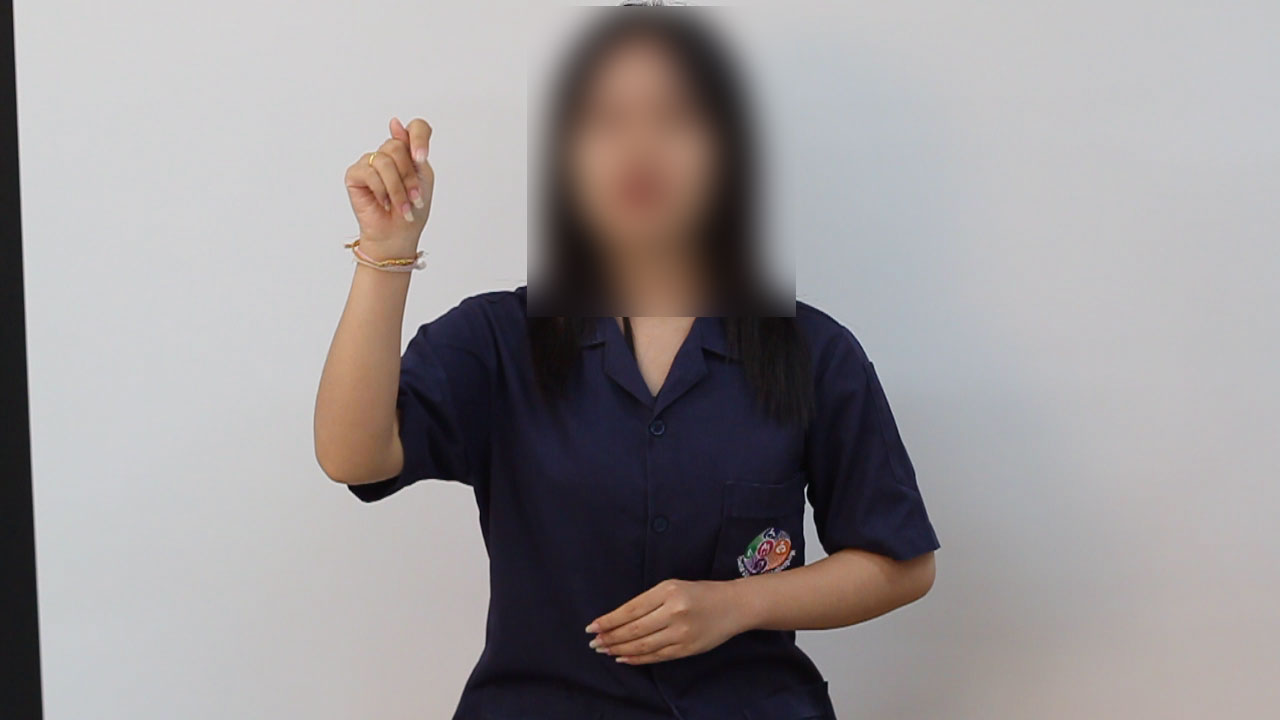tor: (325, 106, 461, 251)
